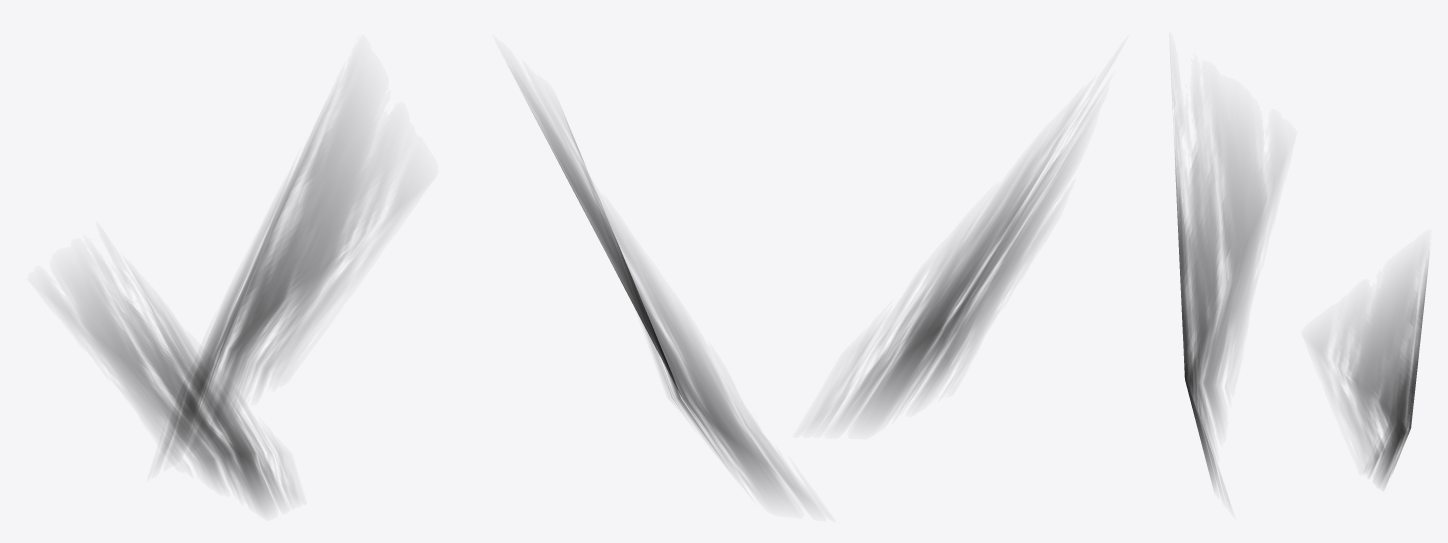
The model's file is boss_bnw_floor_spin_glow.glb.
3 renders of one model, left to right at view 1: azimuth 30°, elevation 25°; view 2: azimuth 150°, elevation 25°; view 3: azimuth 270°, elevation 25°, orthographic. The views are drawn at different scales.
Parts seen in each view (by area): view 1: FloorSpinGlow; view 2: FloorSpinGlow; view 3: FloorSpinGlow.
Boxes of the visible parts, bbox=[...] form: FloorSpinGlow: bbox=[66, 103, 401, 509]; FloorSpinGlow: bbox=[517, 80, 1071, 500]; FloorSpinGlow: bbox=[1175, 126, 1428, 486].
Size of the model in its own units: 37.16 by 31.61 by 19.58.
Materials: 1 (1 with a texture image).
